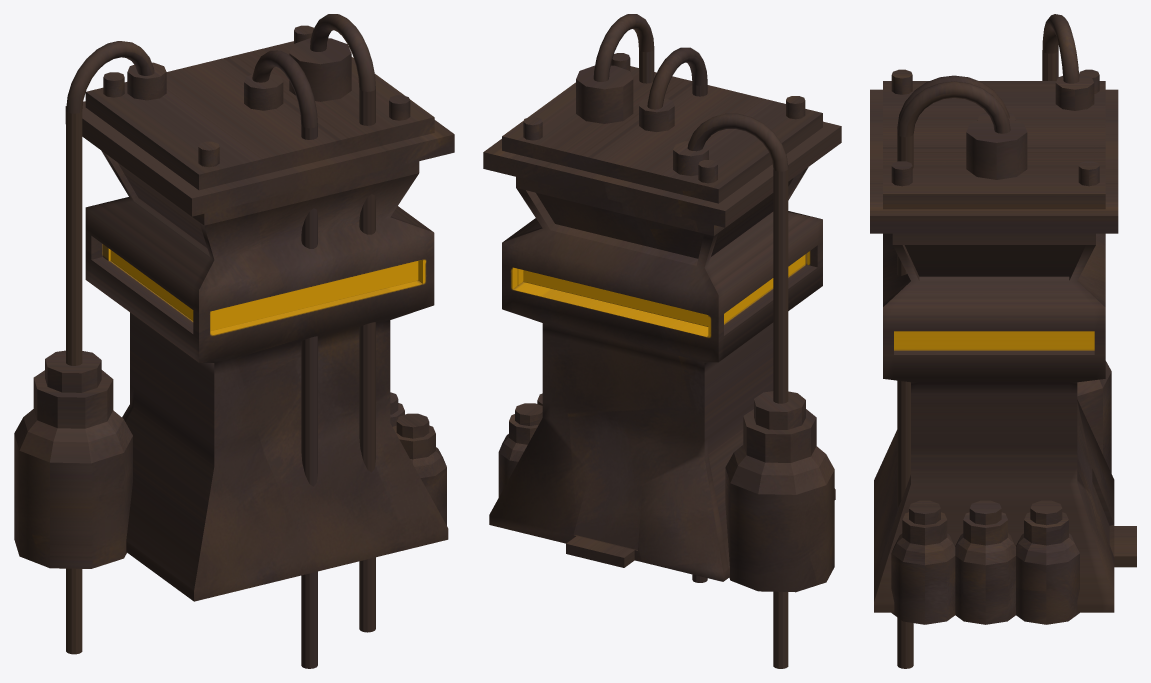
The model's file is building4.FBX.
3 views of the same model, side by side, from view 1: azimuth 30°, elevation 25°; view 2: azimuth 150°, elevation 25°; view 3: azimuth 270°, elevation 25° (orthographic). The views are drawn at different scales.
Visible parts, largest first — view 1: Box001, Cylinder003, Torus003, Torus001, Torus002, Cylinder004, Cylinder001, Cylinder002, Cylinder009; view 2: Box001, Cylinder003, Torus003, Cylinder001, Torus001, Cylinder011, Torus002, Cylinder002, Cylinder009; view 3: Box001, Cylinder004, Cylinder011, Cylinder010, Torus001, Cylinder001, Cylinder003, Torus003, Cylinder009, Torus002, Cylinder007, Cylinder005 (+1 smaller).
Boxes of the visible parts, x1,y1,x2,y2 form: Box001: (65,41,454,601); Cylinder003: (14,350,132,568); Torus003: (66,41,154,654); Torus001: (310,14,375,632); Torus002: (252,50,317,668); Cylinder004: (392,413,446,525); Cylinder001: (289,38,351,101); Cylinder002: (244,73,283,110); Cylinder009: (127,62,166,100); Box001: (483,66,841,581); Cylinder003: (725,391,834,592); Torus003: (687,113,788,668); Cylinder001: (576,65,633,123); Torus001: (593,14,654,83); Cylinder011: (498,403,542,497); Torus002: (647,47,707,582); Cylinder002: (639,98,674,131); Cylinder009: (673,141,708,175); Box001: (870,81,1136,612); Cylinder004: (891,500,955,624); Cylinder011: (1016,500,1079,624); Cylinder010: (955,500,1015,624); Torus001: (897,81,1010,668); Cylinder001: (966,117,1027,179); Cylinder003: (1077,361,1111,473); Torus003: (1042,14,1079,83); Cylinder009: (1055,73,1094,110); Torus002: (897,75,1009,131); Cylinder007: (891,69,912,94); Cylinder005: (1078,161,1099,186).
Size of the model in its own units: 153 by 252 by 101.
